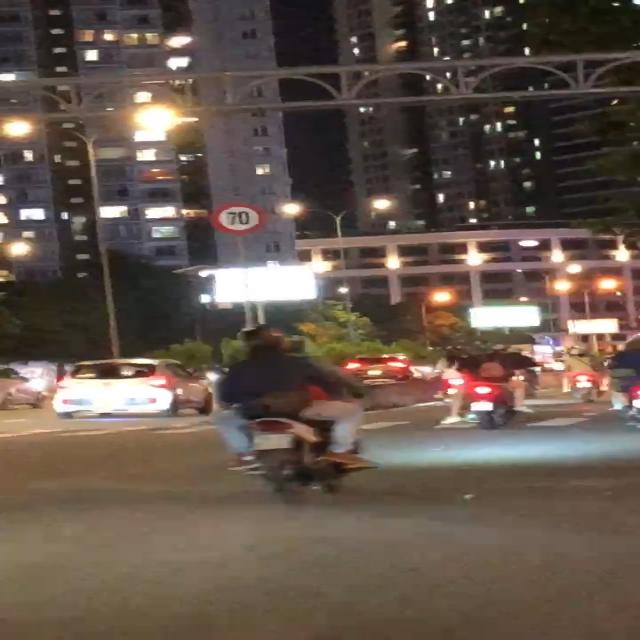Bien bao toc do toi da cho phep: (206, 202, 269, 236)
